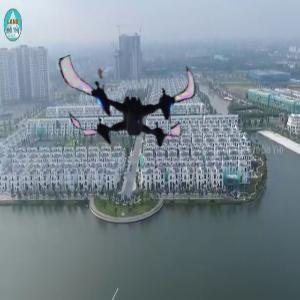drone: (67, 36, 203, 172)
